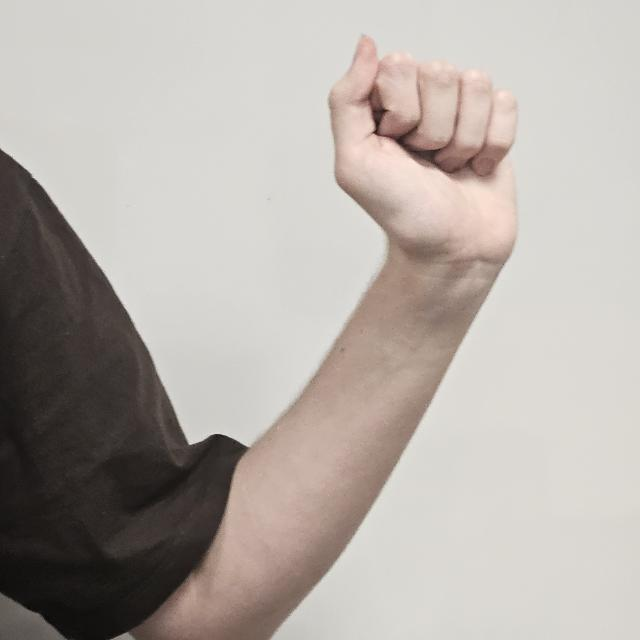Quadro: (328, 26, 520, 264)
